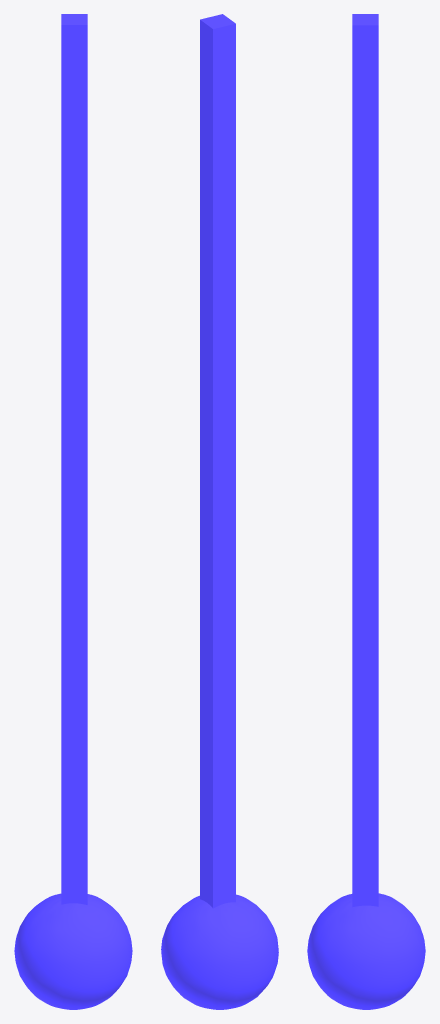
File: NewWebMenuClientiListner.gltf
3 renders of one model, left to right at view 1: azimuth 90°, elevation 25°; view 2: azimuth 210°, elevation 25°; view 3: azimuth 270°, elevation 25°, orthographic.
Parts seen in each view (by area): view 1: ListnerModuli.005; view 2: ListnerModuli.005; view 3: ListnerModuli.005.
Part boxes in pixels (<box>): ListnerModuli.005: <box>14,14,132,1009</box>; ListnerModuli.005: <box>161,14,278,1009</box>; ListnerModuli.005: <box>307,14,425,1009</box>.
Bounding box in the file's own units: 0.0421 × 0.3869 × 0.0421.
